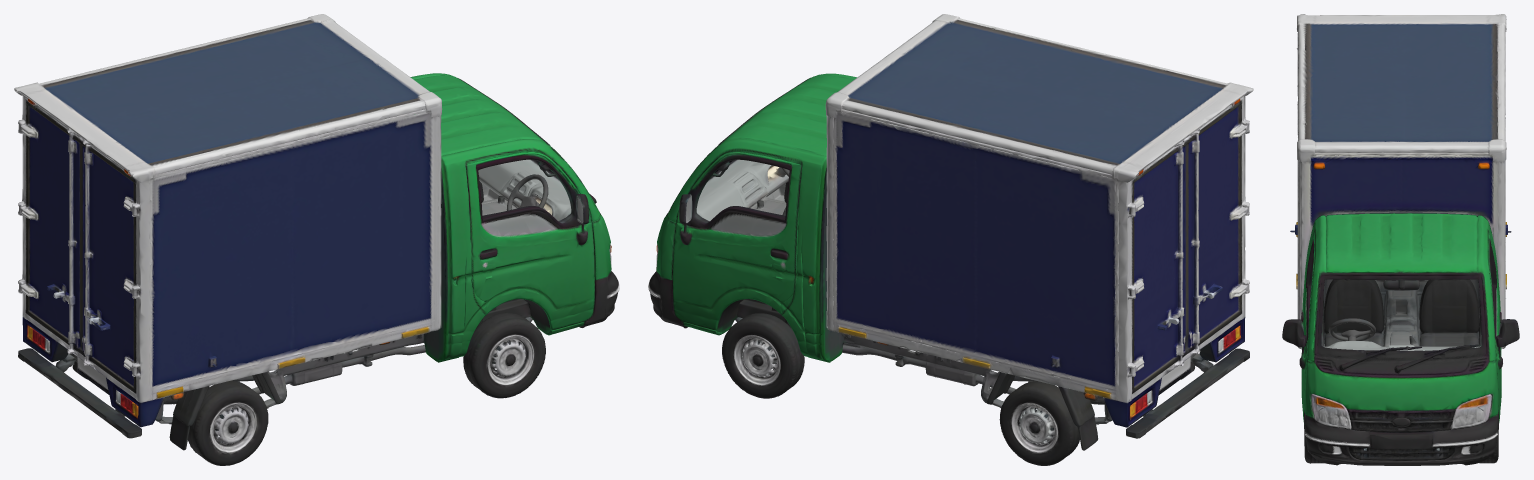
File: truck-v3.glb
3 views of the same model, side by side, from view 1: azimuth 30°, elevation 25°; view 2: azimuth 150°, elevation 25°; view 3: azimuth 270°, elevation 25° (orthographic). The views are drawn at different scales.
Visible parts, largest first — view 1: tripo_node_e5eb238e-f98a-4cfc-95af-4c08884d6f6a; view 2: tripo_node_e5eb238e-f98a-4cfc-95af-4c08884d6f6a; view 3: tripo_node_e5eb238e-f98a-4cfc-95af-4c08884d6f6a.
Part boxes in pixels (bbox=[...]): tripo_node_e5eb238e-f98a-4cfc-95af-4c08884d6f6a: bbox=[14, 14, 619, 465]; tripo_node_e5eb238e-f98a-4cfc-95af-4c08884d6f6a: bbox=[648, 14, 1253, 465]; tripo_node_e5eb238e-f98a-4cfc-95af-4c08884d6f6a: bbox=[1282, 14, 1519, 465].
Bounding box in the file's own units: 4.17 × 2.5 × 1.91.
1 material, 1 textured.
